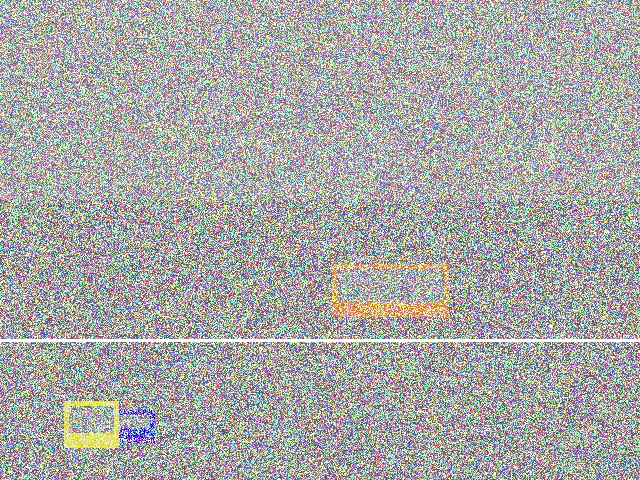bus: (396, 179, 550, 320)
truck: (4, 198, 158, 330)
